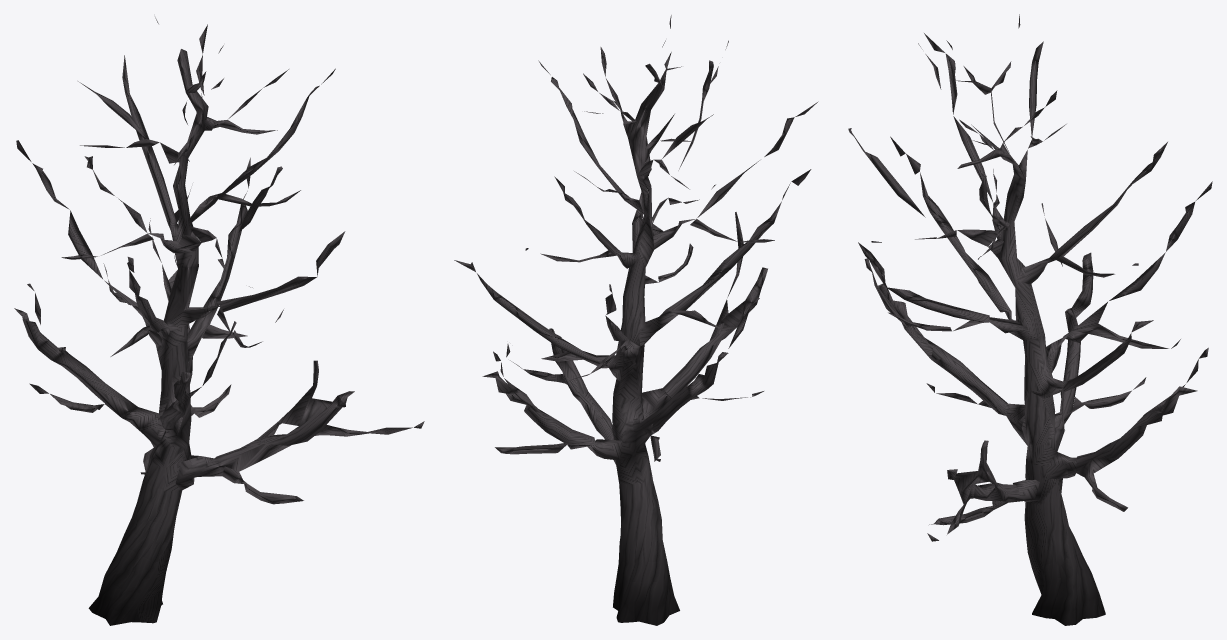
File: DeadTree_2.glb
The picture shows the model from 3 angles, left to right: view 1: azimuth 30°, elevation 25°; view 2: azimuth 150°, elevation 25°; view 3: azimuth 270°, elevation 25°; orthographic projection. The views are drawn at different scales.
Parts seen in each view (by area): view 1: DeadTree_2; view 2: DeadTree_2; view 3: DeadTree_2.
Boxes of the visible parts, <box> form: DeadTree_2: <box>14,17,424,625</box>; DeadTree_2: <box>454,15,818,625</box>; DeadTree_2: <box>848,14,1212,625</box>.
Size of the model in its own units: 6.68 by 11.47 by 6.35.
Materials: 1 (1 with a texture image).
